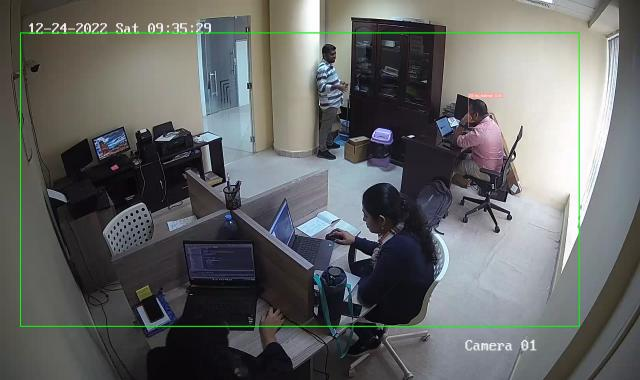no_hairnet: (172, 309, 226, 367), (362, 182, 404, 232), (468, 97, 486, 126), (322, 42, 338, 64)
